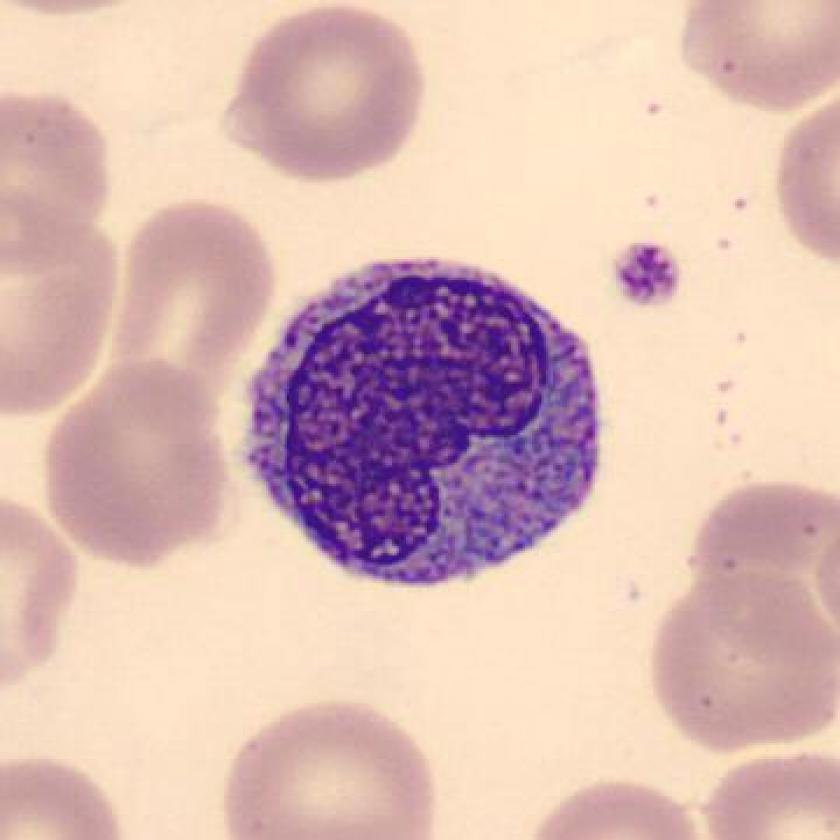monocyte: (225, 235, 624, 607)
